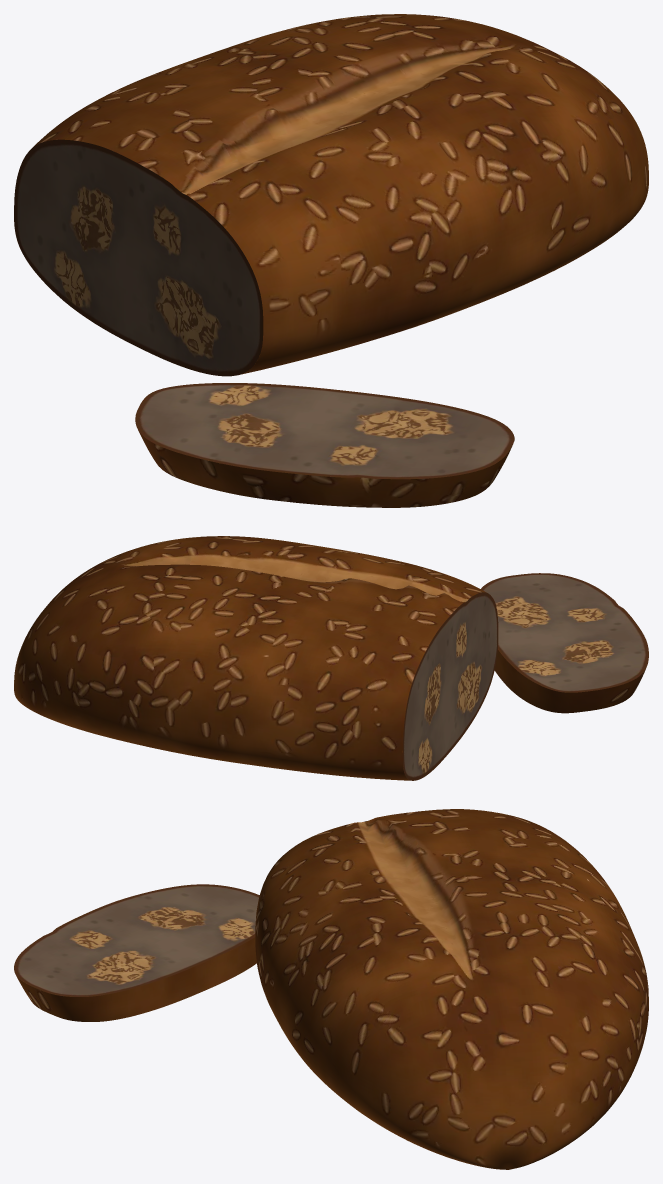
Rendered from rye--walnut-piece.glb.
3 views of the same model, one above another, from view 1: azimuth 30°, elevation 25°; view 2: azimuth 150°, elevation 25°; view 3: azimuth 270°, elevation 25° (orthographic). The views are drawn at different scales.
Visible parts, largest first — view 1: rye_walnut-piece; view 2: rye_walnut-piece; view 3: rye_walnut-piece.
Part boxes in pixels (x1,y1,x2,y2): rye_walnut-piece: (14,14,648,507); rye_walnut-piece: (14,536,648,780); rye_walnut-piece: (14,809,648,1169).
Bounding box in the file's own units: 0.9763 × 0.294 × 1.01.
Materials: 1 (1 with a texture image).
